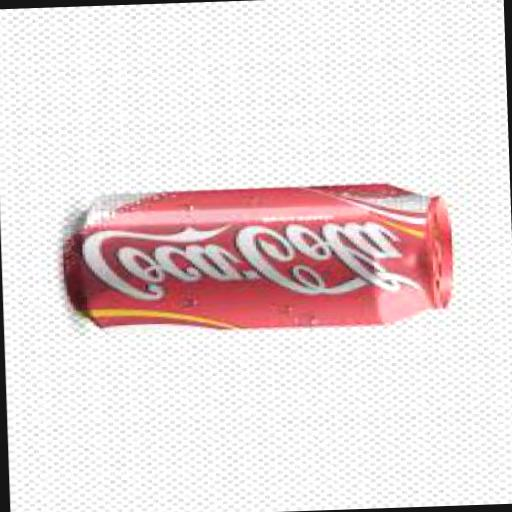metal: (64, 184, 454, 338)
